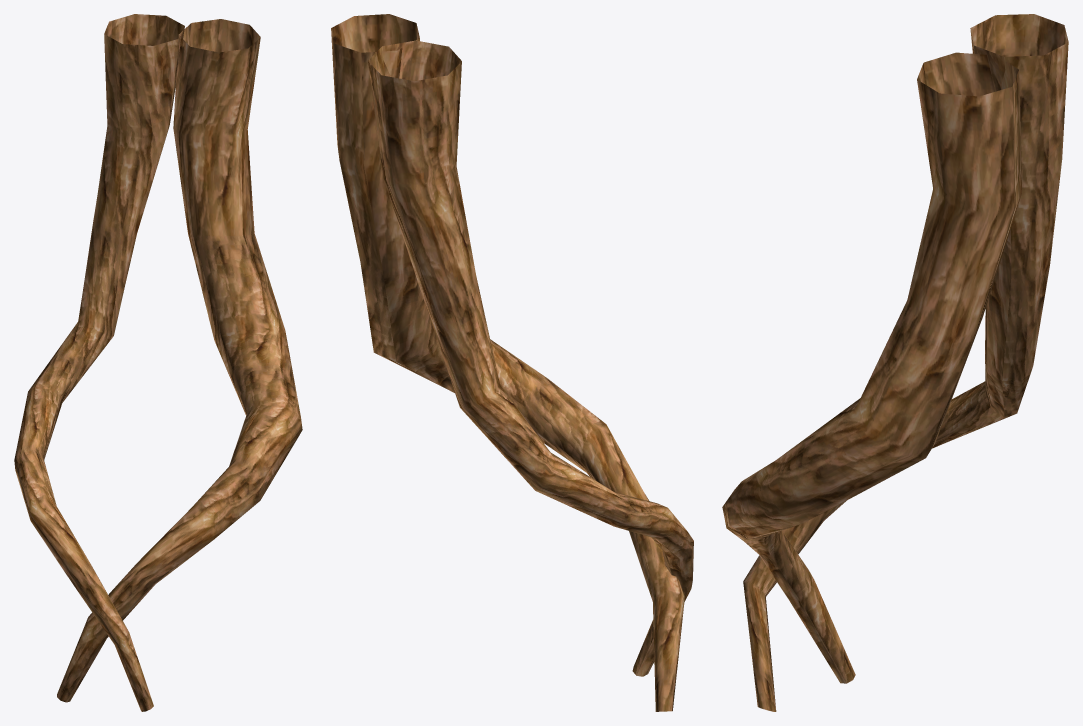
File: EKH_THRONE_PS_TH_ROOT_02.fbx
The picture shows the model from 3 angles, left to right: view 1: azimuth 30°, elevation 25°; view 2: azimuth 150°, elevation 25°; view 3: azimuth 270°, elevation 25°; orthographic projection. The views are drawn at different scales.
Parts seen in each view (by area): view 1: EKH_THRONE_PS_TH_ROOT_02; view 2: EKH_THRONE_PS_TH_ROOT_02; view 3: EKH_THRONE_PS_TH_ROOT_02.
Boxes of the visible parts, x1,y1,x2,y2 form: EKH_THRONE_PS_TH_ROOT_02: (14, 14, 302, 711); EKH_THRONE_PS_TH_ROOT_02: (331, 14, 693, 711); EKH_THRONE_PS_TH_ROOT_02: (722, 14, 1068, 711).
Bounding box in the file's own units: 69478 × 149970 × 63755.
Materials: 1 (1 with a texture image).
